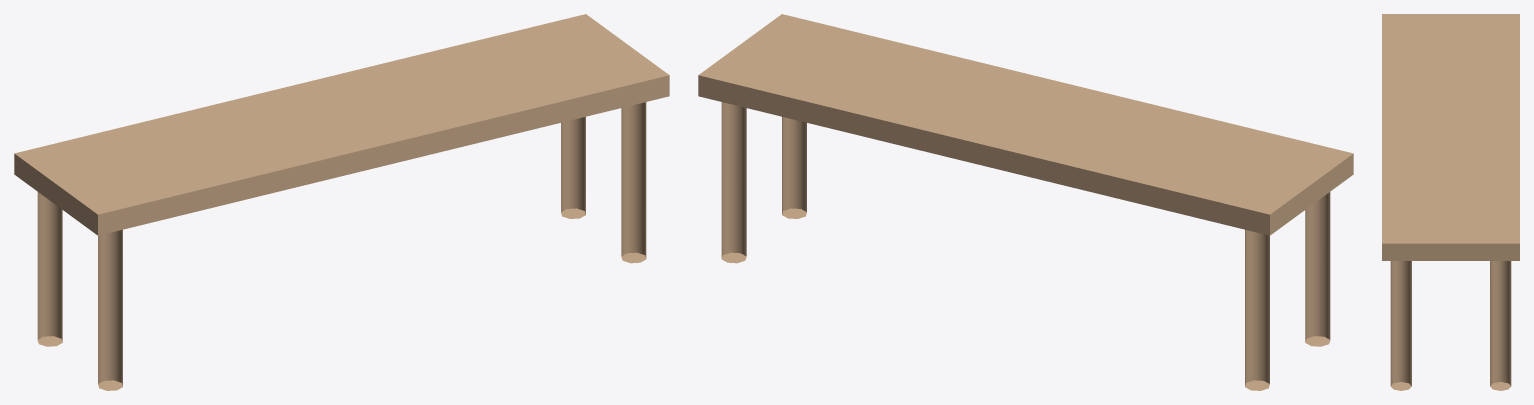
Rendered from bench_08.glb.
The picture shows the model from 3 angles, left to right: view 1: azimuth 30°, elevation 25°; view 2: azimuth 150°, elevation 25°; view 3: azimuth 270°, elevation 25°; orthographic projection. The views are drawn at different scales.
Bounding box in the file's own units: 1.42 × 0.44 × 0.36.
